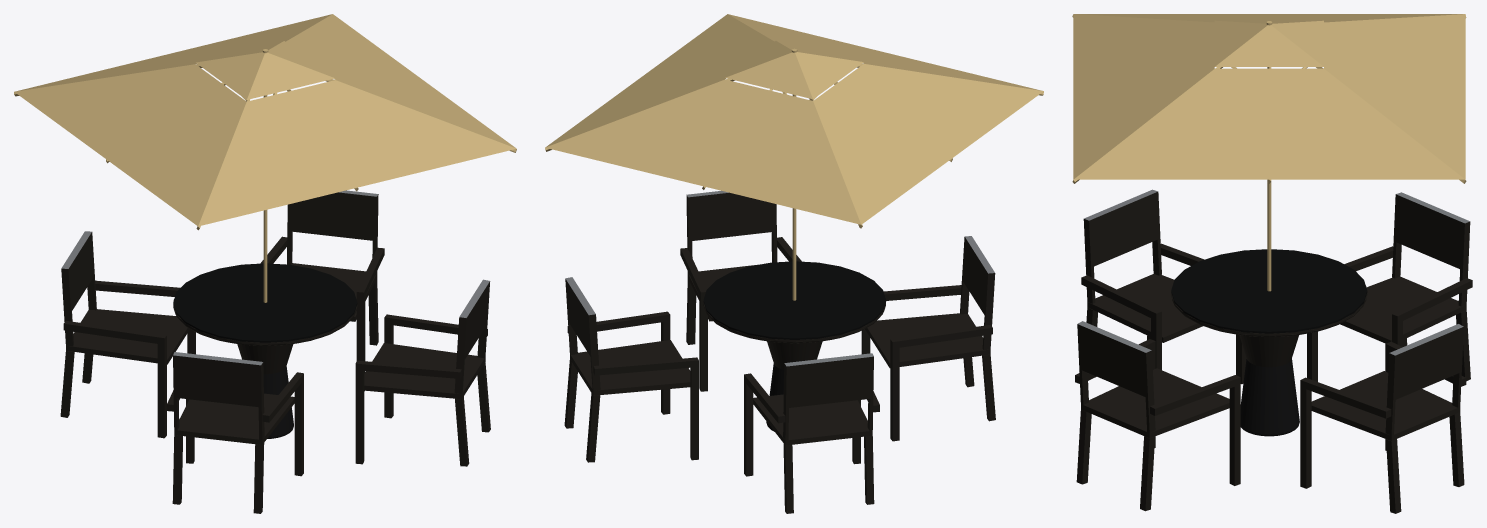
File: kafic-set-krem.glb
The picture shows the model from 3 angles, left to right: view 1: azimuth 30°, elevation 25°; view 2: azimuth 150°, elevation 25°; view 3: azimuth 270°, elevation 25°; orthographic projection. The views are drawn at different scales.
Parts seen in each view (by area): view 1: kafic-set-krem; view 2: kafic-set-krem; view 3: kafic-set-krem.
Part boxes in pixels (box(x1,y1,x2,y2)): kafic-set-krem: box(14, 14, 516, 513); kafic-set-krem: box(545, 14, 1043, 513); kafic-set-krem: box(1072, 14, 1472, 513).
Size of the model in its own units: 3 by 3.27 by 2.92.
1 material, 1 textured.
